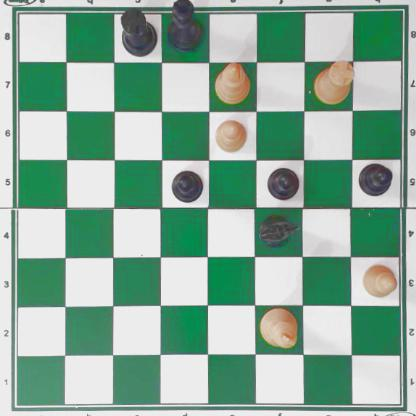black-king: (167, 1, 207, 51)
black-knight: (259, 212, 301, 249)
black-pawn: (357, 162, 392, 196), (170, 168, 204, 203), (267, 165, 300, 200)
black-rook: (118, 7, 159, 57)
white-bishop: (214, 62, 250, 103)
white-king: (258, 306, 297, 351)
white-pawn: (360, 263, 397, 299), (213, 117, 247, 153)
white-rook: (313, 59, 356, 104)
